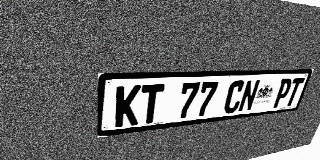7: (175, 82, 201, 120), (194, 82, 219, 118)
C: (222, 80, 246, 114)
K: (115, 85, 141, 127)
N: (237, 80, 261, 112)
P: (271, 78, 294, 108)
T: (139, 84, 165, 125), (283, 78, 305, 107)
